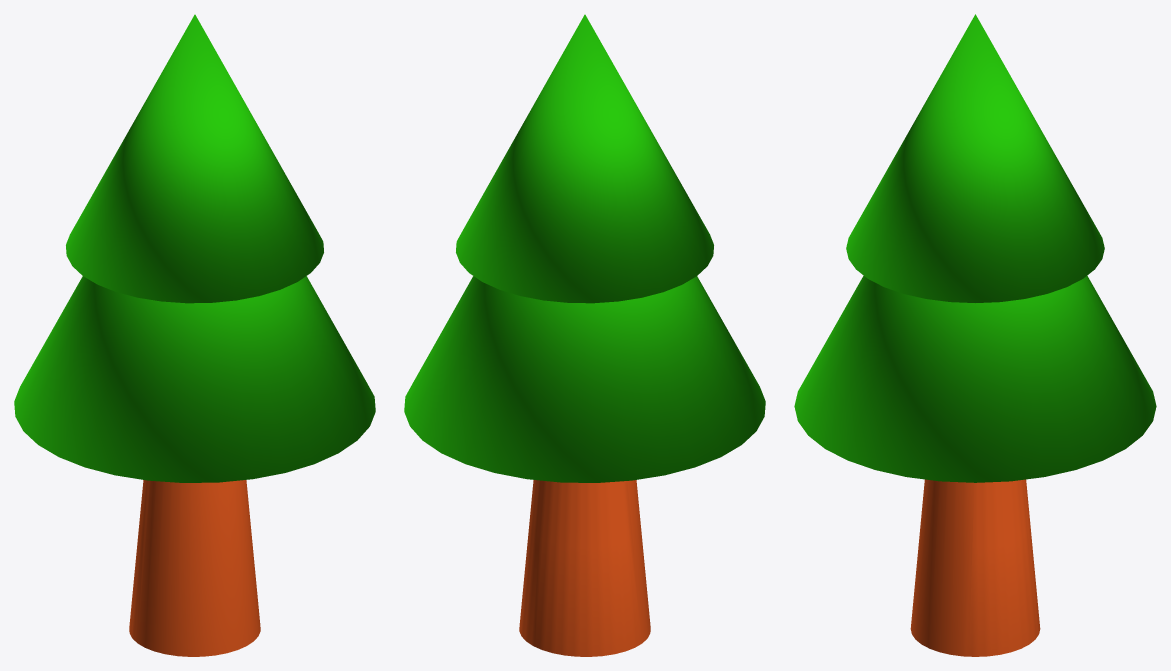
File: NewPine 2.fbx
3 renders of one model, left to right at view 1: azimuth 30°, elevation 25°; view 2: azimuth 150°, elevation 25°; view 3: azimuth 270°, elevation 25°, orthographic.
Parts seen in each view (by area): view 1: Cone.001, Cone, Cylinder; view 2: Cone.001, Cone, Cylinder; view 3: Cone.001, Cone, Cylinder.
Part boxes in pixels (box(x1,y1,x2,y2)): Cone.001: box(14, 276, 375, 482); Cone: box(66, 14, 323, 303); Cylinder: box(129, 480, 260, 656); Cone.001: box(404, 276, 765, 482); Cone: box(456, 14, 713, 303); Cylinder: box(519, 480, 650, 656); Cone.001: box(794, 275, 1156, 482); Cone: box(846, 14, 1104, 302); Cylinder: box(910, 479, 1040, 656).
Size of the model in its own units: 1235 by 2314 by 1235.
